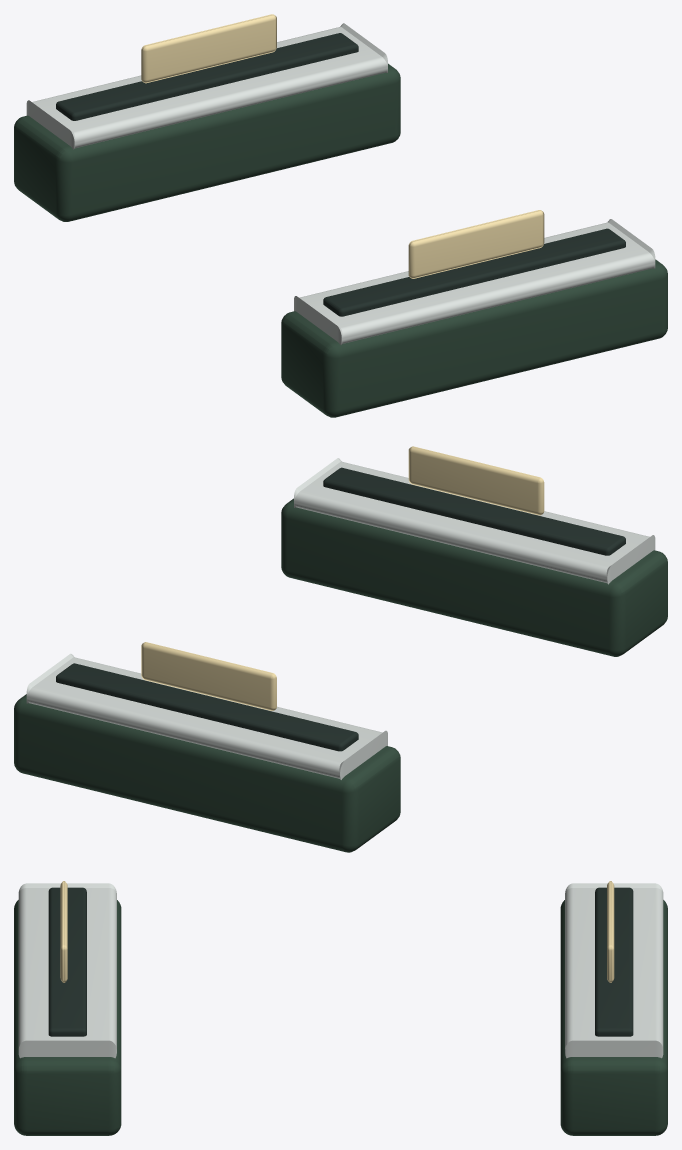
The model's file is closed-checkouts.glb.
3 views of the same model, one above another, from view 1: azimuth 30°, elevation 25°; view 2: azimuth 150°, elevation 25°; view 3: azimuth 270°, elevation 25° (orthographic). The views are drawn at different scales.
Visible parts, largest first — view 1: n4, n11, n5, n12, n6, n13, n7, n14; view 2: n11, n4, n5, n12, n6, n13, n7, n14; view 3: n5, n12, n4, n11, n6, n13, n7, n14.
Part boxes in pixels (x1,y1,x2,y2): n4: [281, 259, 667, 417]; n11: [14, 63, 400, 221]; n5: [294, 219, 655, 344]; n12: [26, 23, 387, 149]; n6: [323, 228, 625, 316]; n13: [56, 33, 358, 120]; n7: [408, 210, 544, 278]; n14: [141, 14, 276, 83]; n11: [14, 694, 400, 852]; n4: [281, 498, 667, 656]; n5: [294, 458, 655, 584]; n12: [26, 653, 387, 779]; n6: [323, 467, 625, 555]; n13: [56, 663, 358, 751]; n7: [408, 446, 544, 515]; n14: [141, 642, 276, 710]; n5: [18, 883, 116, 1058]; n12: [565, 883, 663, 1058]; n4: [14, 900, 121, 1135]; n11: [560, 900, 667, 1135]; n6: [48, 887, 86, 1036]; n13: [595, 887, 633, 1036]; n7: [60, 881, 67, 982]; n14: [607, 881, 614, 982].
Size of the model in its own units: 4.45 by 1.71 by 7.18.
